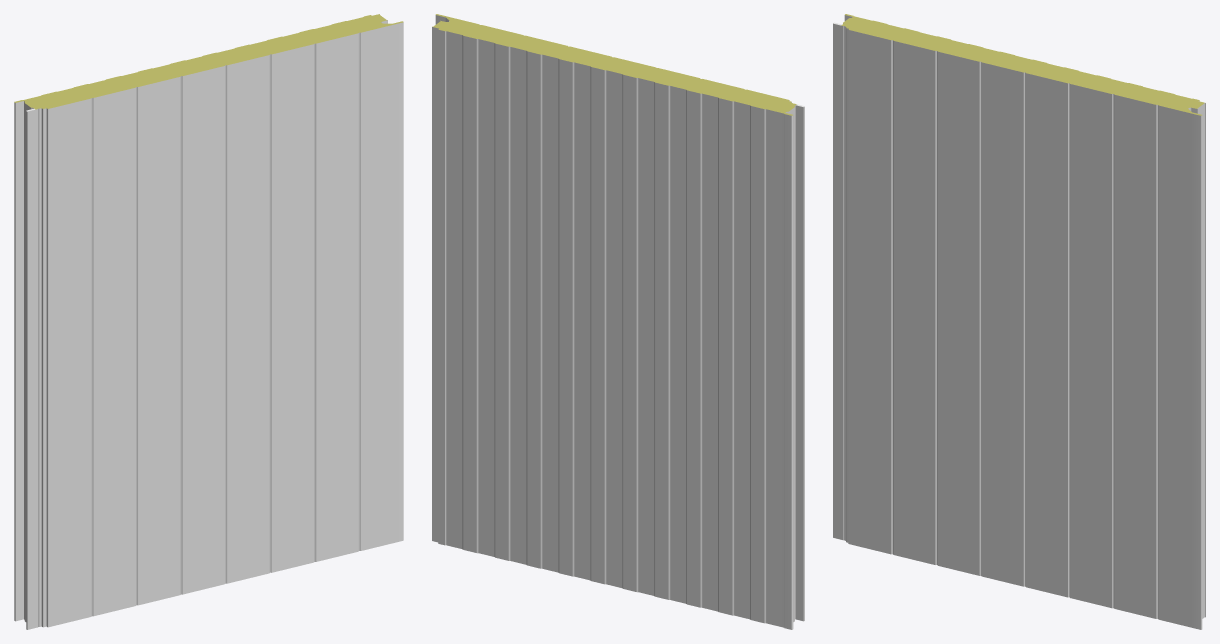
The picture shows the model from 3 angles, left to right: view 1: azimuth 30°, elevation 25°; view 2: azimuth 150°, elevation 25°; view 3: azimuth 330°, elevation 25°; orthographic projection.
Visible parts, largest first — view 1: polySurface2, polySurface6, polySurface7, polySurface4; view 2: polySurface7, polySurface6, polySurface2, polySurface4; view 3: polySurface2, polySurface6, polySurface7.
Part boxes in pixels (bbox=[...]): polySurface2: bbox=[26, 20, 403, 629]; polySurface6: bbox=[14, 14, 403, 109]; polySurface7: bbox=[14, 14, 379, 621]; polySurface4: bbox=[24, 101, 33, 621]; polySurface7: bbox=[432, 27, 793, 629]; polySurface6: bbox=[432, 14, 796, 115]; polySurface2: bbox=[435, 15, 804, 621]; polySurface4: bbox=[785, 105, 795, 621]; polySurface2: bbox=[833, 22, 1202, 629]; polySurface6: bbox=[841, 14, 1204, 115]; polySurface7: bbox=[844, 15, 1205, 618].
Bounding box in the file's own units: 8.5 × 11.24 × 0.6229.
